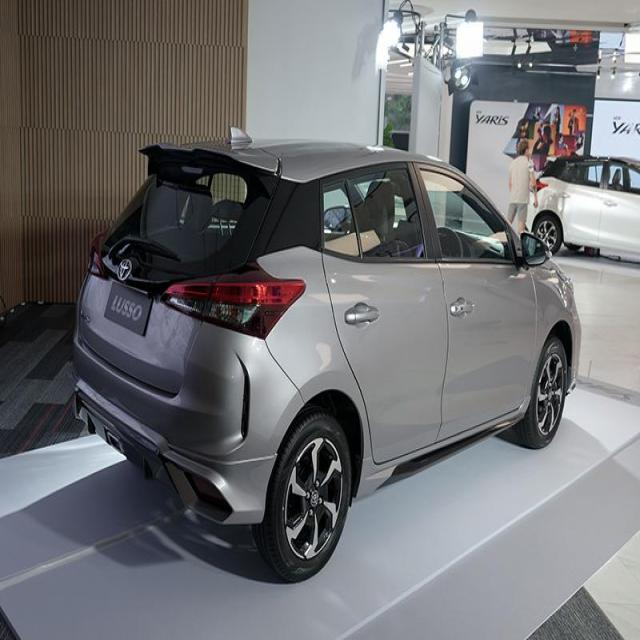Hatchback: (74, 132, 581, 582)
